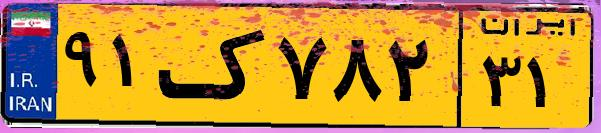1: (525, 38, 570, 115), (110, 28, 158, 98)
2: (385, 28, 445, 110)
3: (475, 38, 525, 113)
7: (270, 28, 330, 110)
8: (330, 28, 385, 110)
9: (57, 26, 110, 100)
ک: (158, 12, 270, 120)
